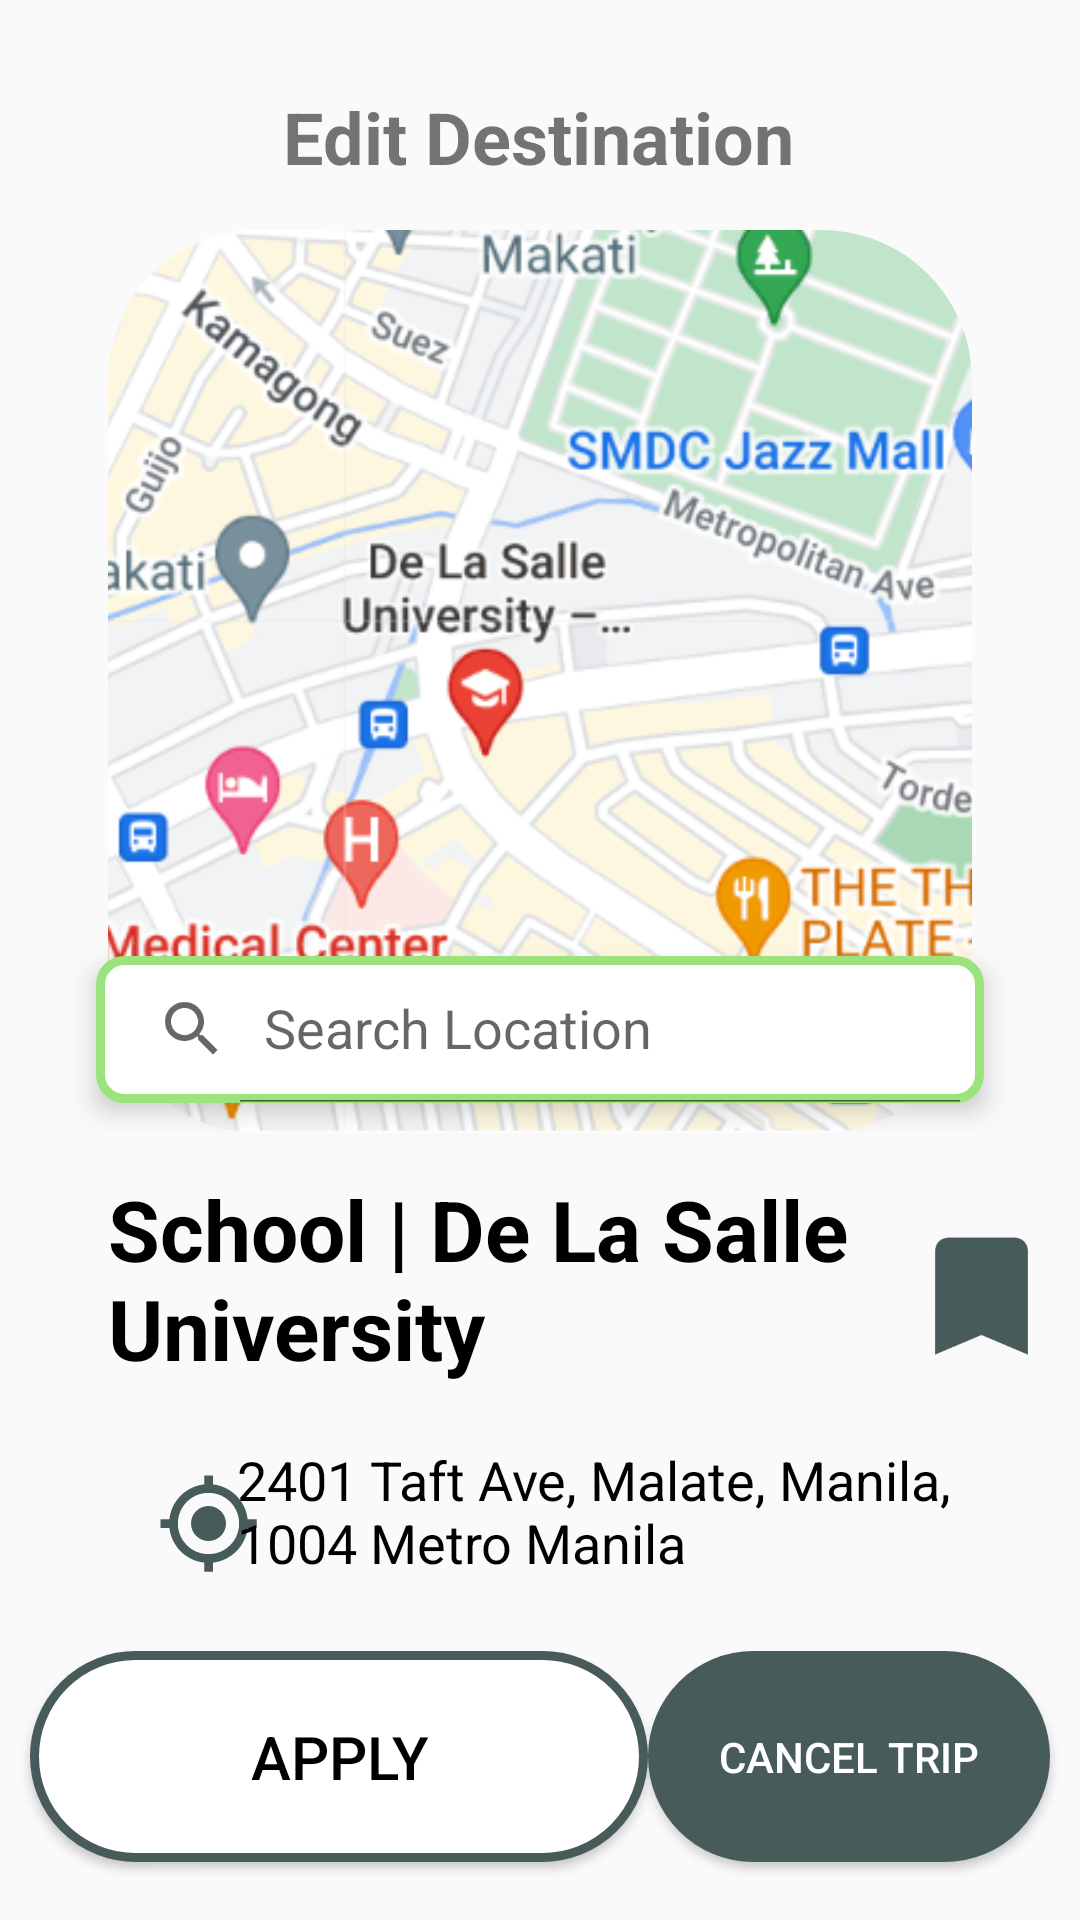

Icons on this 1080×1920 Android screen, each with the point to tap as (x,y):
Address: (210,1517)
Saved Places: (981,1296)
